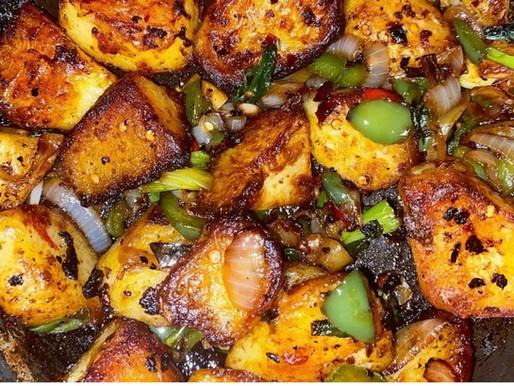AlooMasala: (2, 2, 514, 386)
